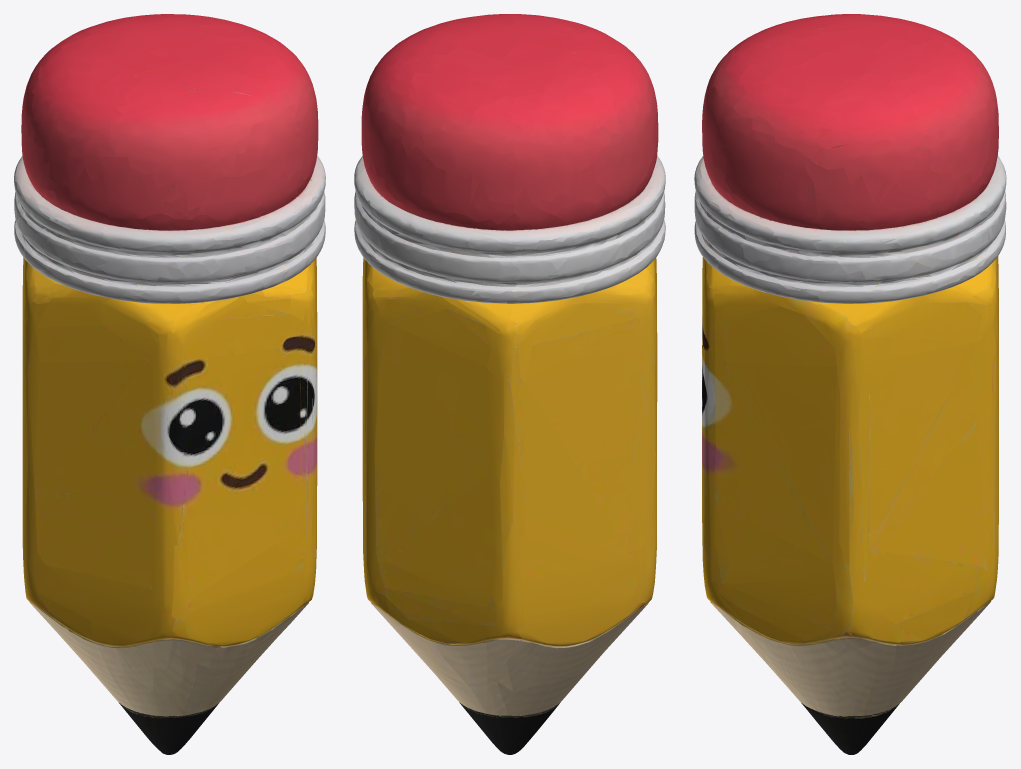
Rendered from pim.glb.
The picture shows the model from 3 angles, left to right: view 1: azimuth 30°, elevation 25°; view 2: azimuth 150°, elevation 25°; view 3: azimuth 270°, elevation 25°; orthographic projection.
Parts seen in each view (by area): view 1: Mesh_0; view 2: Mesh_0; view 3: Mesh_0.
Boxes of the visible parts, x1,y1,x2,y2 form: Mesh_0: [14, 14, 325, 754]; Mesh_0: [354, 14, 665, 754]; Mesh_0: [694, 14, 1006, 754].
Size of the model in its own units: 0.8149 by 1.9 by 0.7657.
1 material, 1 textured.
